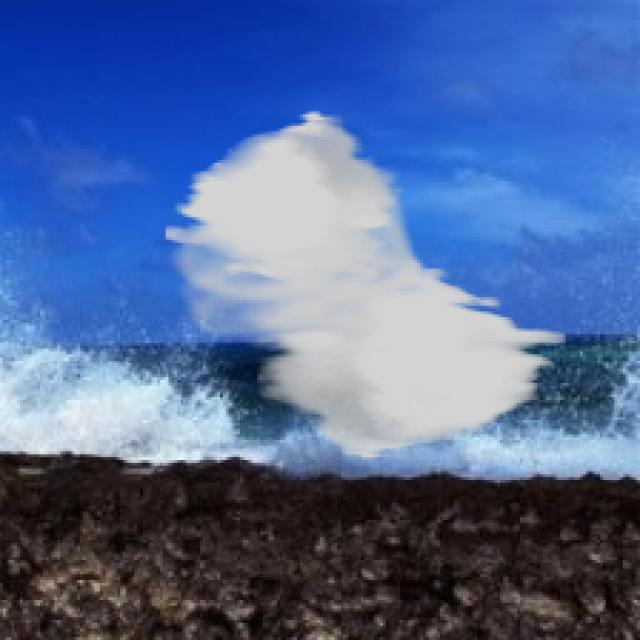smoke: (163, 109, 566, 460)
